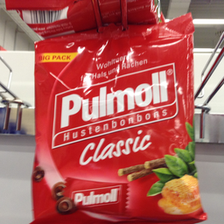candy: (39, 28, 201, 222)
